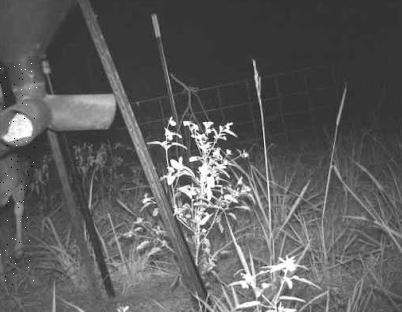Deer: (0, 62, 38, 286)
